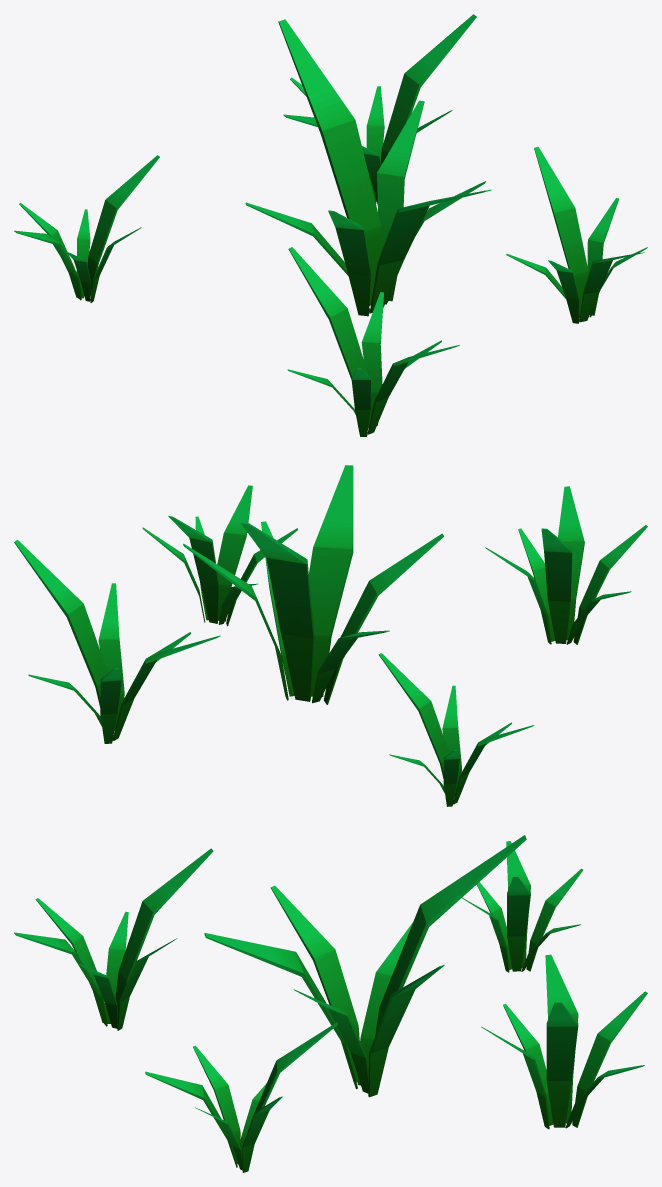
The model's file is bush5.glb.
3 views of the same model, one above another, from view 1: azimuth 30°, elevation 25°; view 2: azimuth 150°, elevation 25°; view 3: azimuth 270°, elevation 25° (orthographic). The views are drawn at different scales.
Visible parts, largest first — view 1: bush5; view 2: bush5; view 3: bush5.
Boxes of the visible parts, x1,y1,x2,y2 form: bush5: [14, 14, 647, 436]; bush5: [14, 465, 647, 806]; bush5: [14, 835, 647, 1172].
Size of the model in its own units: 1.55 by 0.7182 by 1.66.
Materials: 1 (1 with a texture image).
